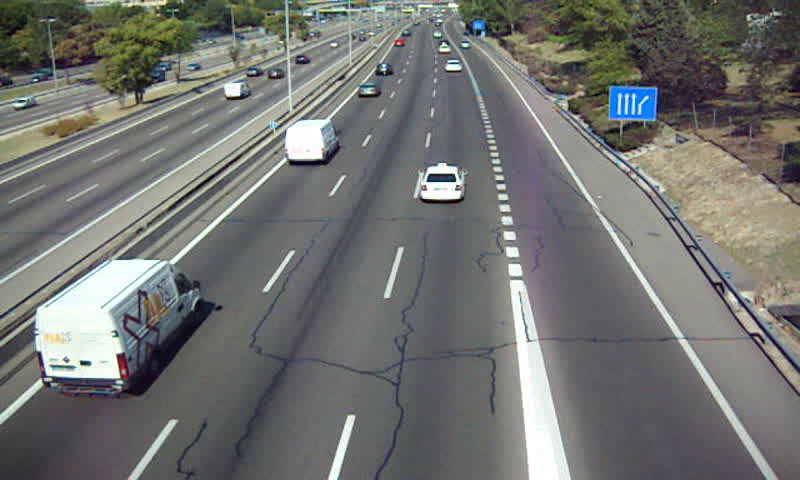car: (419, 165, 467, 202), (356, 83, 379, 100), (376, 61, 394, 78), (443, 59, 463, 74)
van: (36, 261, 200, 399), (284, 119, 339, 163)
